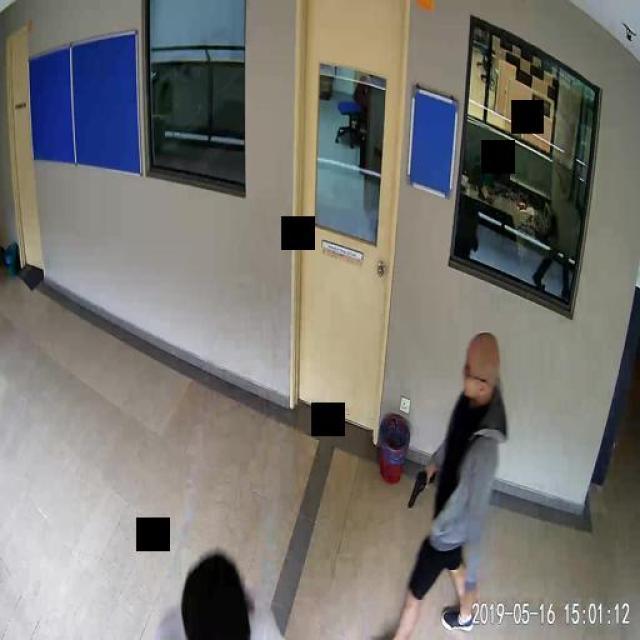gun: (407, 465, 432, 509)
